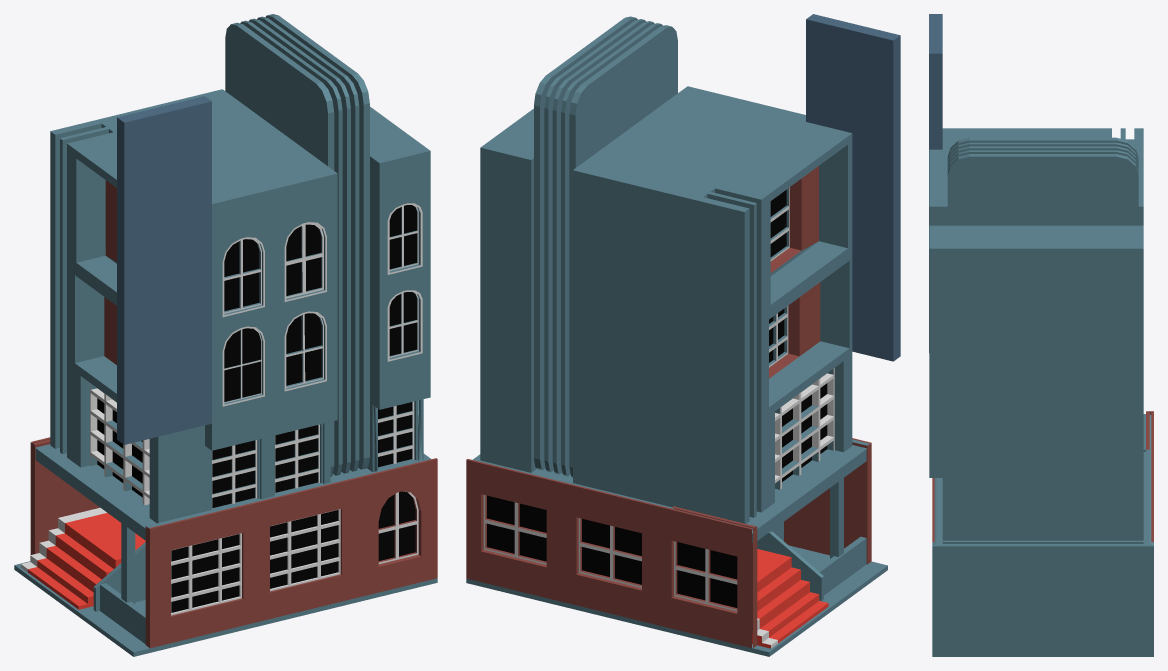
Rendered from city_building-3.glb.
3 views of the same model, side by side, from view 1: azimuth 30°, elevation 25°; view 2: azimuth 150°, elevation 25°; view 3: azimuth 270°, elevation 25° (orthographic). The views are drawn at different scales.
Parts seen in each view (by area): view 1: Cube.332_26; view 2: Cube.332_26; view 3: Cube.332_26.
Boxes of the visible parts, left/top/right/bottom form: Cube.332_26: left=14, top=14, right=437, bottom=656; Cube.332_26: left=466, top=14, right=900, bottom=656; Cube.332_26: left=929, top=14, right=1153, bottom=656.
Size of the model in its own units: 15.22 by 24.84 by 10.12.
